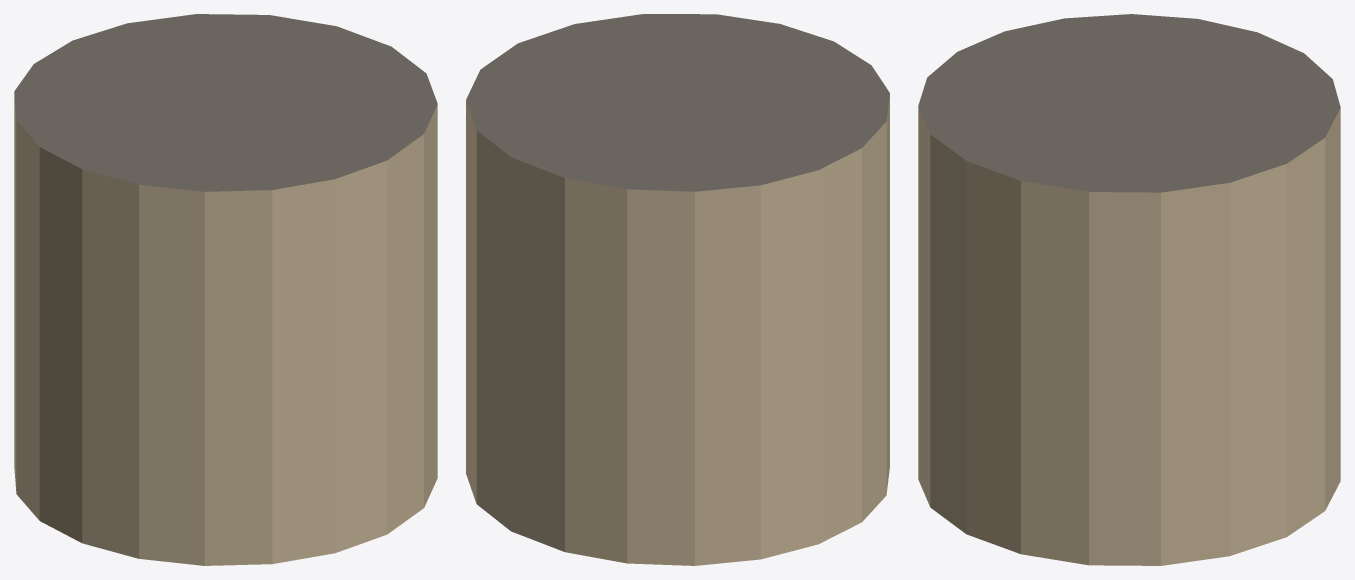
3 views of the same model, side by side, from view 1: azimuth 30°, elevation 25°; view 2: azimuth 150°, elevation 25°; view 3: azimuth 270°, elevation 25° (orthographic).
Parts seen in each view (by area): view 1: HP-w300652039; view 2: HP-w300652039; view 3: HP-w300652039.
Part boxes in pixels (bbox=[...]): HP-w300652039: bbox=[14, 14, 437, 565]; HP-w300652039: bbox=[466, 14, 889, 565]; HP-w300652039: bbox=[918, 14, 1340, 565].
Size of the model in its own units: 13.54 by 13.2 by 13.54.
